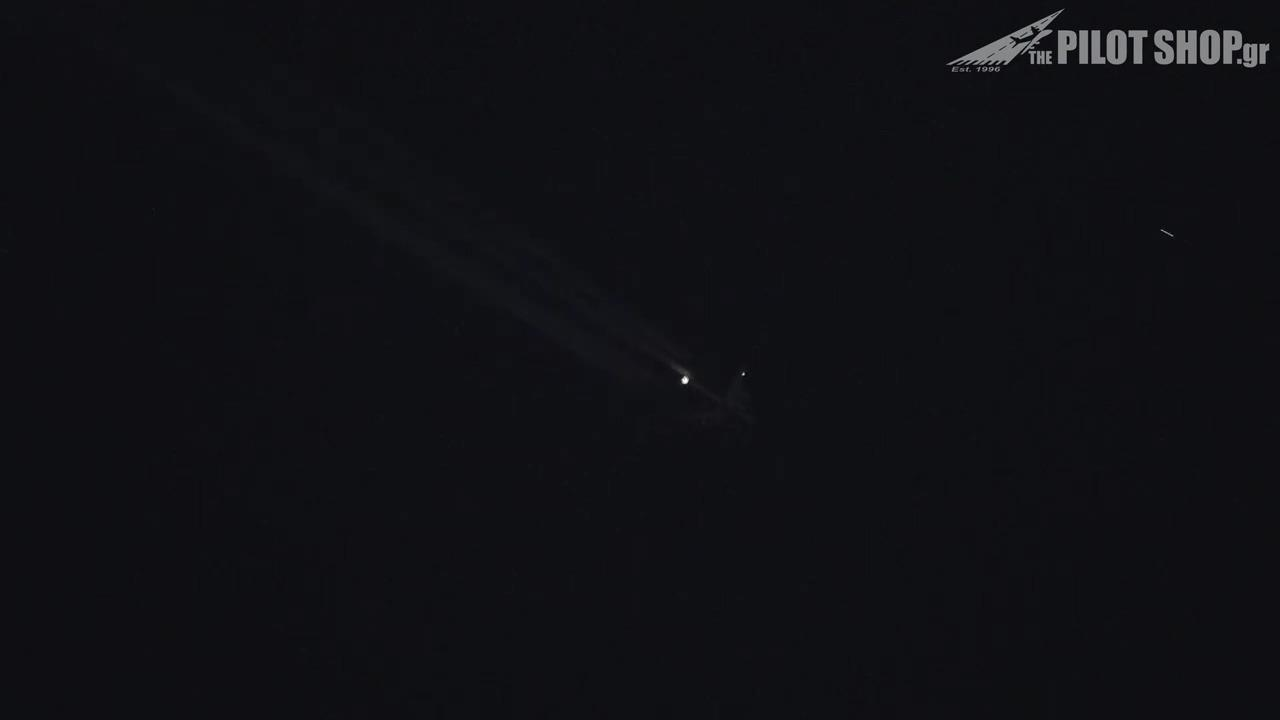Plane: (606, 316, 831, 473)
